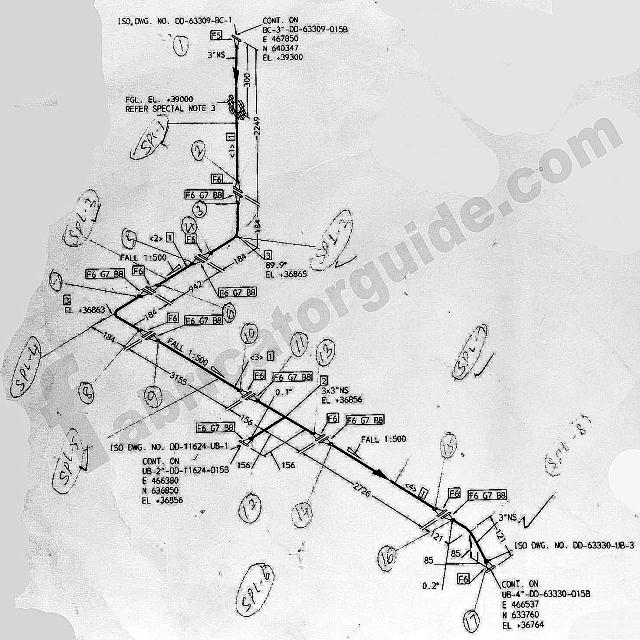Item number: (195, 419, 238, 435), (467, 488, 509, 502), (346, 412, 385, 427), (85, 267, 126, 281), (272, 370, 315, 383), (183, 188, 225, 201), (217, 285, 258, 298), (183, 314, 224, 327), (447, 486, 462, 500), (456, 571, 472, 584), (183, 232, 199, 245), (325, 411, 341, 424), (209, 28, 223, 42), (253, 368, 268, 381), (131, 264, 146, 277), (166, 311, 180, 324), (210, 173, 225, 185), (165, 230, 175, 244), (263, 248, 273, 262), (226, 130, 236, 143), (62, 293, 72, 306), (266, 350, 275, 363)
Measrement: (299, 449, 427, 531), (125, 344, 232, 411), (167, 268, 226, 305), (251, 49, 263, 205), (486, 512, 517, 563), (237, 434, 275, 474), (218, 245, 262, 273), (88, 323, 131, 351), (130, 301, 173, 328), (225, 406, 267, 432), (243, 41, 253, 121), (422, 555, 483, 568), (420, 526, 454, 548), (269, 449, 299, 473), (252, 203, 261, 249), (449, 547, 471, 560), (420, 579, 441, 591), (264, 260, 288, 270), (499, 511, 518, 523), (207, 50, 228, 60)
Pipeline: (327, 440, 433, 513), (153, 339, 244, 394), (248, 396, 319, 443), (447, 515, 493, 565), (206, 200, 242, 256), (231, 42, 242, 187), (113, 293, 147, 334), (156, 261, 198, 288)
Symbol: (205, 199, 258, 255), (449, 515, 490, 566), (101, 293, 152, 333), (430, 504, 457, 524), (133, 326, 162, 344), (188, 248, 215, 267), (136, 281, 164, 299), (236, 386, 262, 405), (308, 430, 335, 448), (368, 464, 392, 483), (231, 177, 245, 208), (483, 556, 498, 576), (231, 62, 241, 91), (229, 32, 242, 54)
Weld number: (236, 493, 264, 525), (288, 502, 316, 531), (374, 544, 400, 575), (313, 336, 336, 368), (437, 430, 460, 460), (76, 379, 97, 407), (288, 331, 309, 358), (239, 321, 261, 345), (143, 385, 165, 409), (188, 136, 207, 163), (117, 227, 138, 251), (360, 435, 409, 445), (172, 35, 191, 58), (46, 269, 64, 293), (179, 216, 199, 236), (221, 302, 238, 324)
other: (111, 437, 232, 506), (118, 89, 223, 166), (498, 577, 592, 633), (259, 18, 352, 64), (115, 9, 236, 28), (513, 540, 637, 551), (318, 384, 365, 405), (117, 251, 169, 263), (318, 393, 364, 406), (62, 306, 107, 315), (263, 270, 310, 278)
